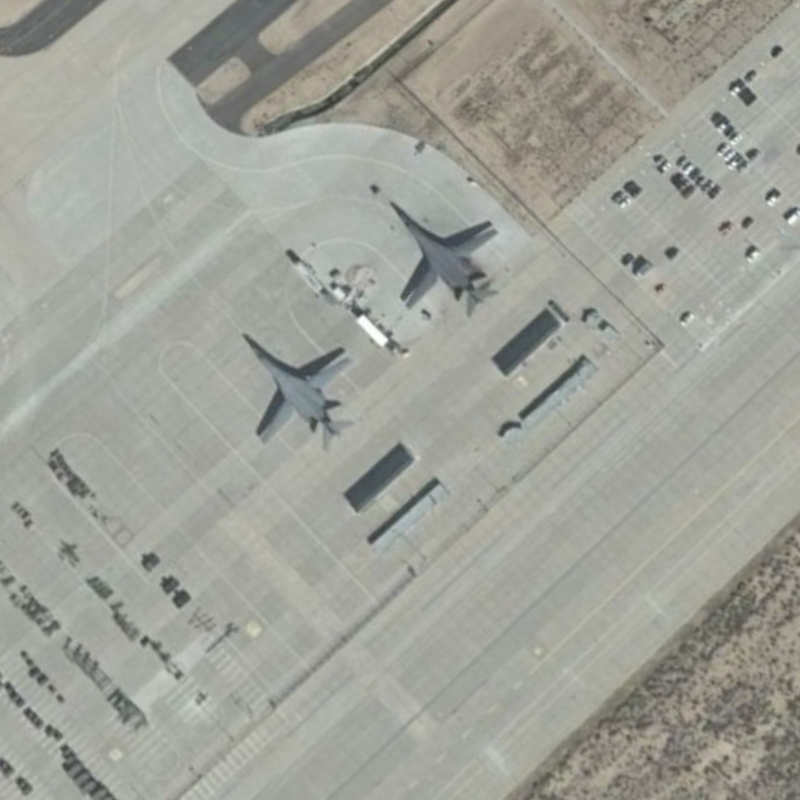A10: (236, 328, 368, 455), (385, 194, 501, 319)
